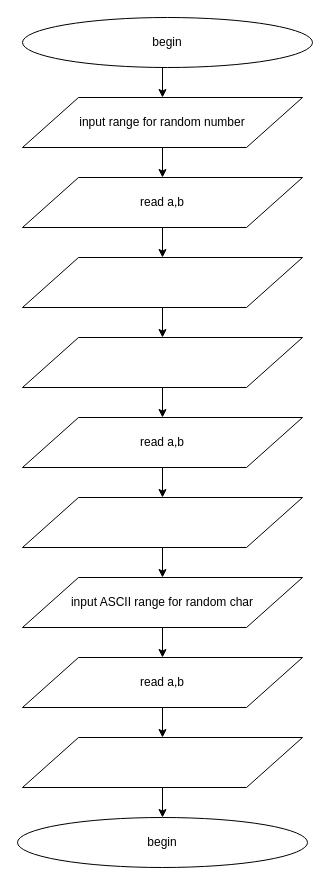
Some shapes in this 330 by 885 pixel diagram are drawn without their labels. The box of each missing label's shape, as (x1, y1, x2, y2) in pixels:
input range for random real: (22, 336, 302, 388)
output: randint(a,b): (22, 256, 302, 308)
output: random . uniform ( a , b ): (22, 496, 302, 548)
output: random.choices([a-Z], k=random.randint(a,b)): (22, 736, 302, 788)
